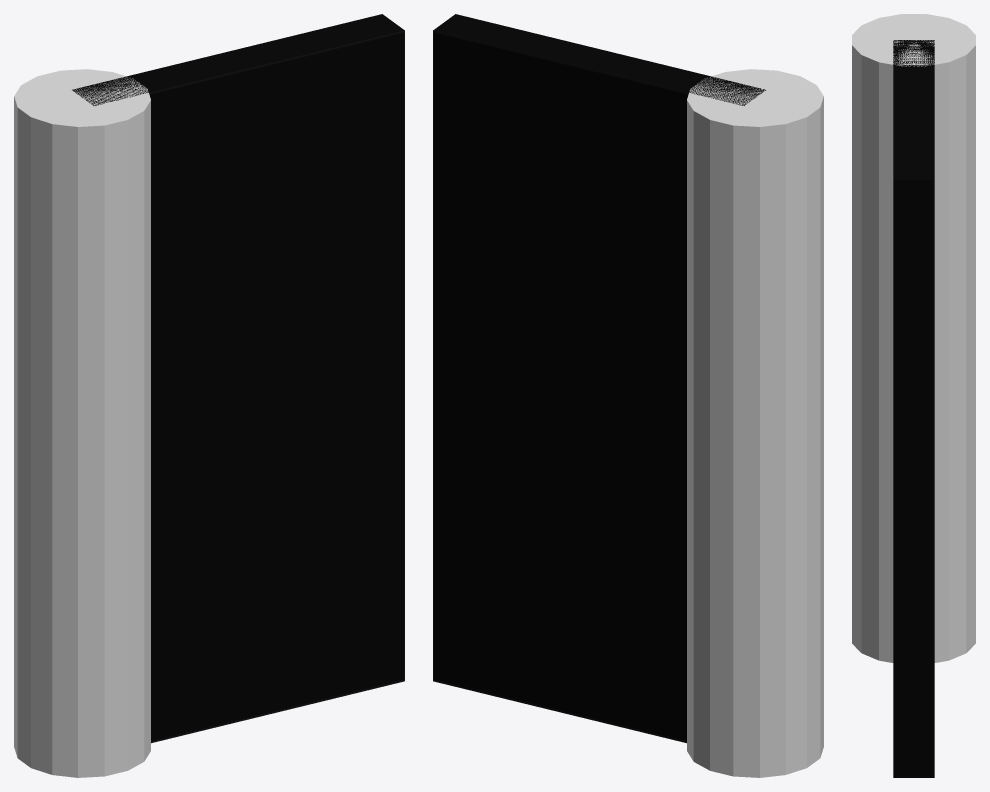
The model's file is dc_metrobus_wall_2.obj.
3 renders of one model, left to right at view 1: azimuth 30°, elevation 25°; view 2: azimuth 150°, elevation 25°; view 3: azimuth 270°, elevation 25°, orthographic. The views are drawn at different scales.
Parts seen in each view (by area): view 1: cube, cylinder; view 2: cube, cylinder; view 3: cylinder, cube.
Boxes of the visible parts, <box> form: cube: <box>72,14,404,743</box>; cylinder: <box>14,69,150,777</box>; cube: <box>433,14,765,743</box>; cylinder: <box>687,69,823,777</box>; cylinder: <box>852,14,975,662</box>; cube: <box>893,40,934,777</box>.
Size of the model in its own units: 0.5938 by 1 by 0.1875.
2 materials, 2 textured.
